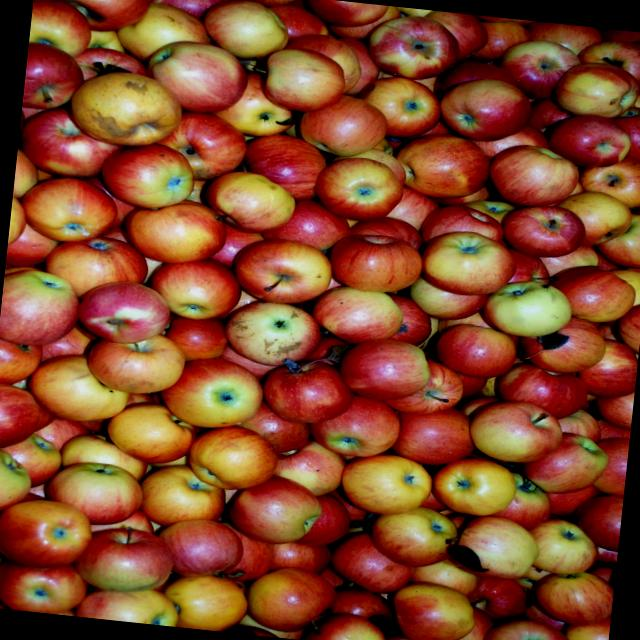alpple: (143, 36, 250, 116), (158, 352, 264, 430), (121, 194, 228, 270), (15, 172, 119, 250), (419, 224, 520, 302), (224, 471, 325, 548), (230, 234, 334, 308), (72, 520, 174, 595), (392, 129, 493, 203), (43, 456, 144, 530), (97, 137, 195, 212), (150, 108, 248, 183), (434, 73, 532, 146), (363, 11, 462, 82), (466, 397, 564, 468), (74, 276, 172, 347), (310, 151, 404, 224), (484, 140, 580, 211), (325, 229, 425, 297), (448, 511, 540, 584), (224, 296, 322, 364), (336, 449, 431, 519), (202, 166, 294, 238), (146, 251, 242, 320), (367, 501, 460, 572), (334, 334, 432, 401), (540, 261, 638, 328), (307, 389, 401, 458), (520, 426, 610, 498), (257, 44, 347, 115), (353, 72, 441, 141), (428, 453, 518, 520), (552, 57, 640, 121), (495, 36, 581, 101), (498, 200, 586, 262), (387, 579, 476, 640), (551, 187, 634, 250), (522, 514, 601, 580), (546, 110, 631, 171), (532, 566, 615, 628), (433, 321, 518, 378)
